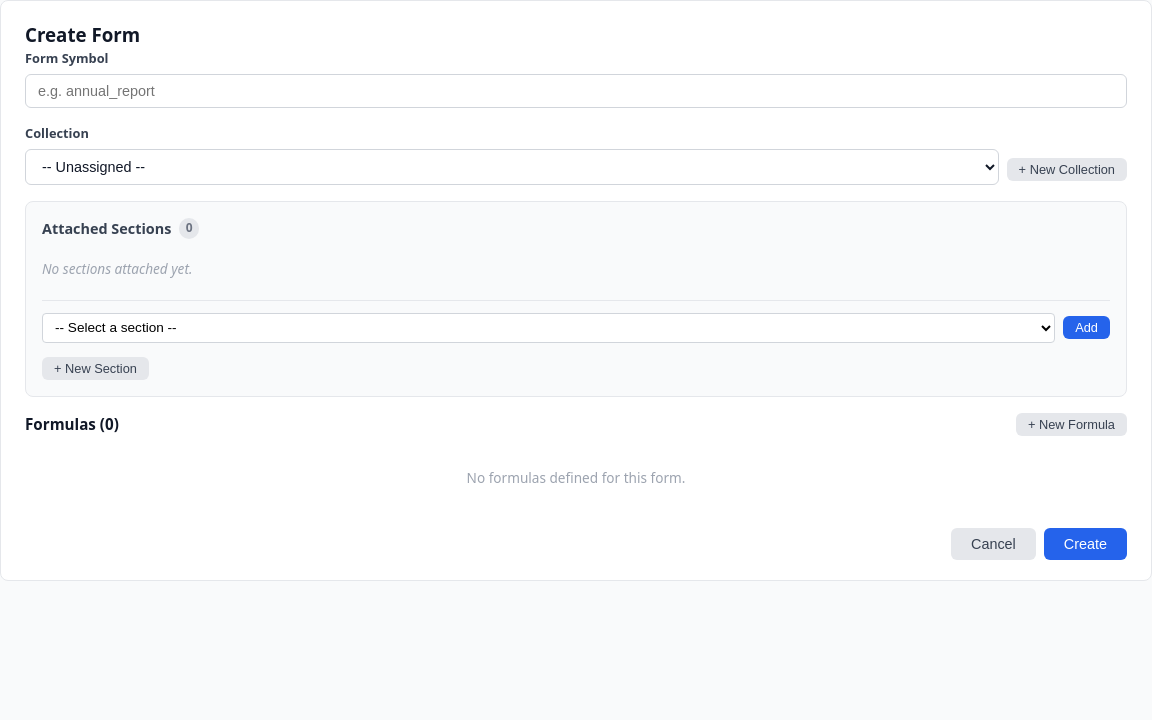
Scenario: FormForm › given empty form_symbol › when submitted, then shows validation error
The image size is (1152, 720).
Click the button "Create" at (1085, 544), box x1=1044 y1=528 x2=1127 y2=560
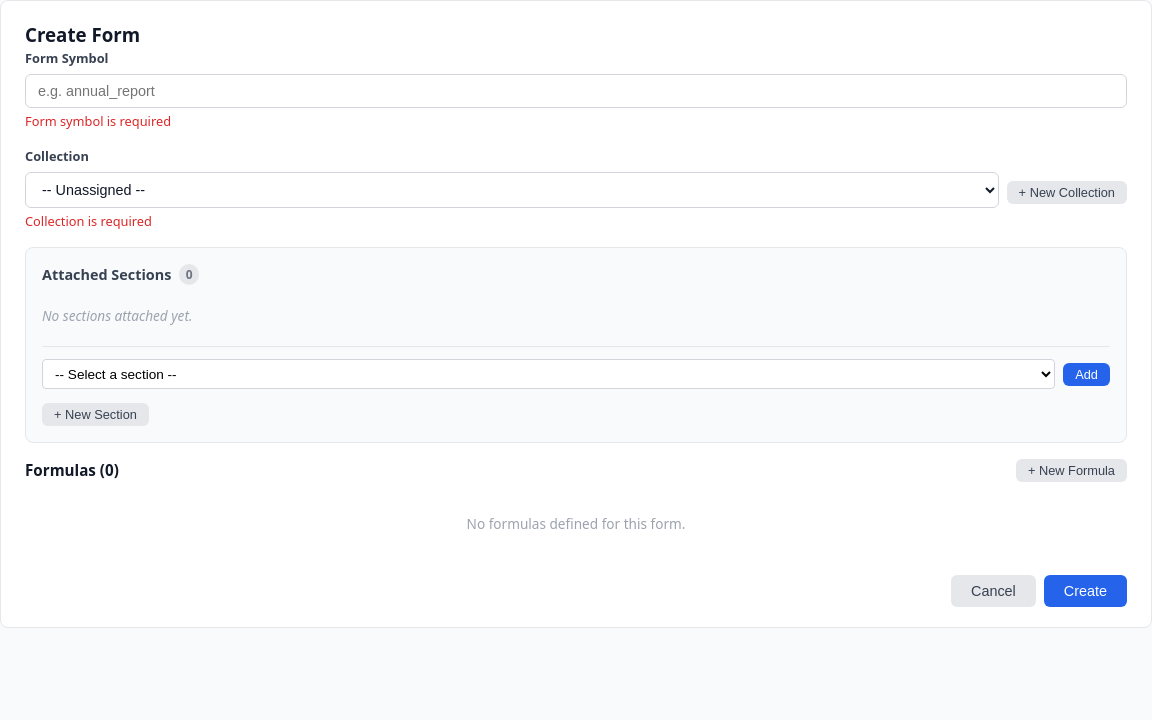
expect the text "Form symbol is required" is shown: met, box x1=25 y1=112 x2=171 y2=130
